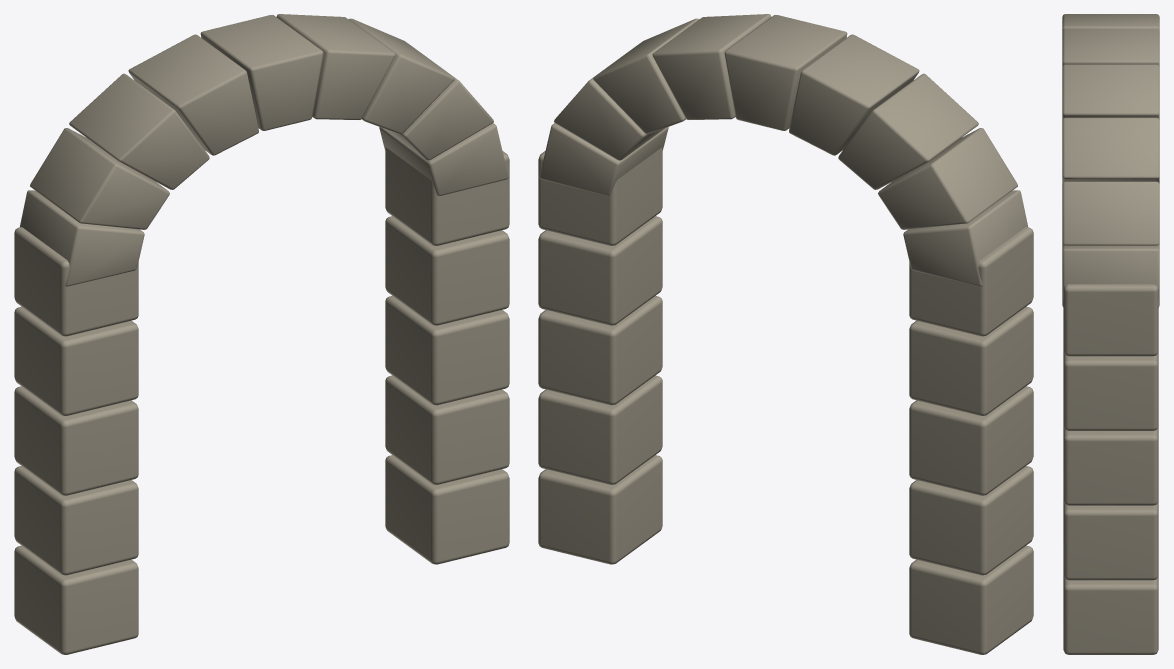
The model's file is SM_Gate_Arch.fbx.
3 views of the same model, side by side, from view 1: azimuth 30°, elevation 25°; view 2: azimuth 150°, elevation 25°; view 3: azimuth 270°, elevation 25° (orthographic). The views are drawn at different scales.
Visible parts, largest first — view 1: Arch_pier.002, Arch_pier.001, Arch_pier.005, Arch_pier.006, Arch_pier.008, Arch_pier.003, Arch_pier, Arch_pier.007, Arch_wedge.005, Arch_wedge.006, Arch_wedge.007, Arch_wedge.004 (+7 smaller); view 2: Arch_pier.002, Arch_pier.001, Arch_pier.005, Arch_pier.006, Arch_pier.008, Arch_pier.003, Arch_pier, Arch_pier.007, Arch_wedge.005, Arch_wedge.006, Arch_wedge.007, Arch_wedge.004 (+7 smaller); view 3: Arch_pier.006, Arch_pier.005, Arch_pier.008, Arch_pier.007, Arch_pier.009, Arch_wedge.002, Arch_wedge.001, Arch_wedge.003, Arch_wedge, Arch_wedge.004, Arch_wedge.005.
Part boxes in pixels (bbox=[...]): Arch_pier.002: bbox=[14, 386, 138, 495]; Arch_pier.001: bbox=[14, 466, 138, 575]; Arch_pier.005: bbox=[385, 455, 509, 564]; Arch_pier.006: bbox=[385, 375, 509, 484]; Arch_pier.008: bbox=[385, 216, 509, 325]; Arch_pier.003: bbox=[14, 306, 138, 415]; Arch_pier: bbox=[14, 545, 138, 654]; Arch_pier.007: bbox=[385, 296, 509, 405]; Arch_wedge.005: bbox=[128, 34, 258, 155]; Arch_wedge.006: bbox=[69, 73, 209, 189]; Arch_wedge.007: bbox=[30, 128, 169, 229]; Arch_wedge.004: bbox=[200, 15, 323, 130]; Arch_pier.002: bbox=[909, 386, 1033, 495]; Arch_pier.001: bbox=[909, 466, 1033, 575]; Arch_pier.005: bbox=[538, 455, 662, 564]; Arch_pier.006: bbox=[538, 375, 662, 484]; Arch_pier.008: bbox=[538, 216, 662, 325]; Arch_pier.003: bbox=[909, 306, 1033, 415]; Arch_pier: bbox=[909, 545, 1033, 654]; Arch_pier.007: bbox=[538, 296, 662, 405]; Arch_wedge.005: bbox=[789, 34, 919, 155]; Arch_wedge.006: bbox=[838, 73, 978, 189]; Arch_wedge.007: bbox=[878, 128, 1017, 229]; Arch_wedge.004: bbox=[724, 15, 847, 130]; Arch_pier.006: bbox=[1063, 501, 1158, 580]; Arch_pier.005: bbox=[1063, 575, 1158, 654]; Arch_pier.008: bbox=[1063, 351, 1158, 430]; Arch_pier.007: bbox=[1063, 426, 1158, 505]; Arch_pier.009: bbox=[1063, 284, 1158, 356]; Arch_wedge.002: bbox=[1062, 117, 1159, 183]; Arch_wedge.001: bbox=[1062, 181, 1159, 245]; Arch_wedge.003: bbox=[1062, 64, 1159, 119]; Arch_wedge: bbox=[1062, 243, 1159, 307]; Arch_wedge.004: bbox=[1062, 28, 1159, 66]; Arch_wedge.005: bbox=[1062, 14, 1159, 30].
Size of what is drawn, in the model's own units: 230 by 46 by 266.
